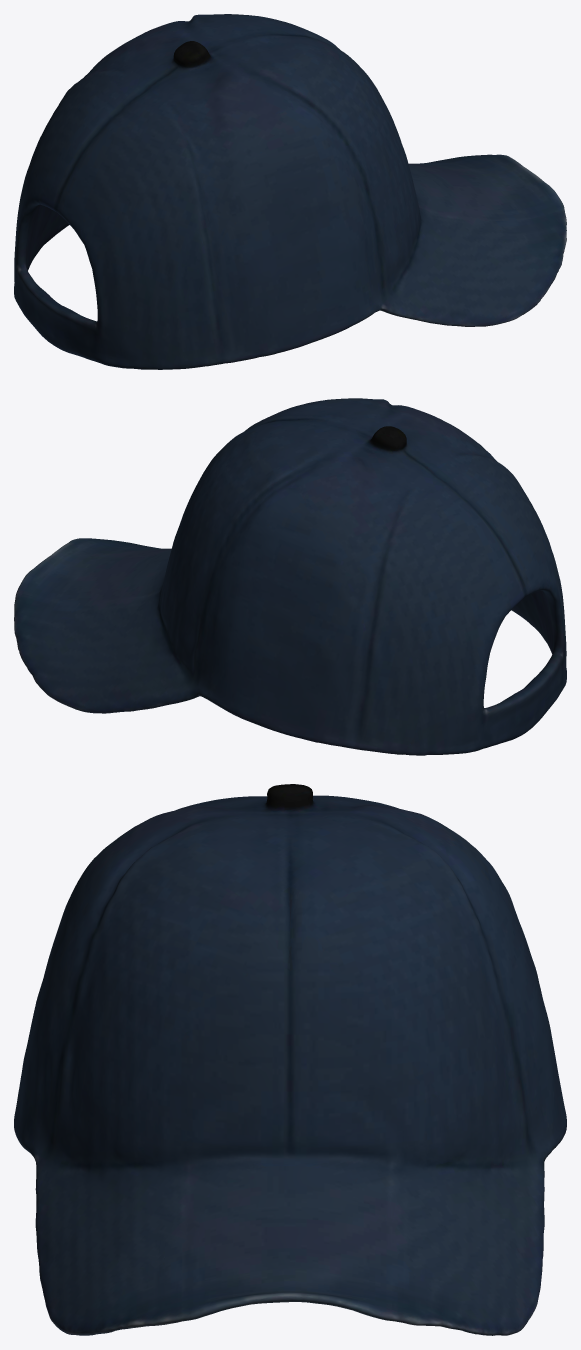
The model's file is ef1b3db44f48_a_basic_baseball_ca.fbx.
3 views of the same model, one above another, from view 1: azimuth 30°, elevation 25°; view 2: azimuth 150°, elevation 25°; view 3: azimuth 270°, elevation 25° (orthographic). The views are drawn at different scales.
Parts seen in each view (by area): view 1: high_poly; view 2: high_poly; view 3: high_poly.
Part boxes in pixels (x1,y1,x2,y2): high_poly: (14, 14, 566, 369); high_poly: (14, 398, 566, 755); high_poly: (14, 784, 566, 1335).
Size of the model in its own units: 100 by 53.45 by 71.11.
